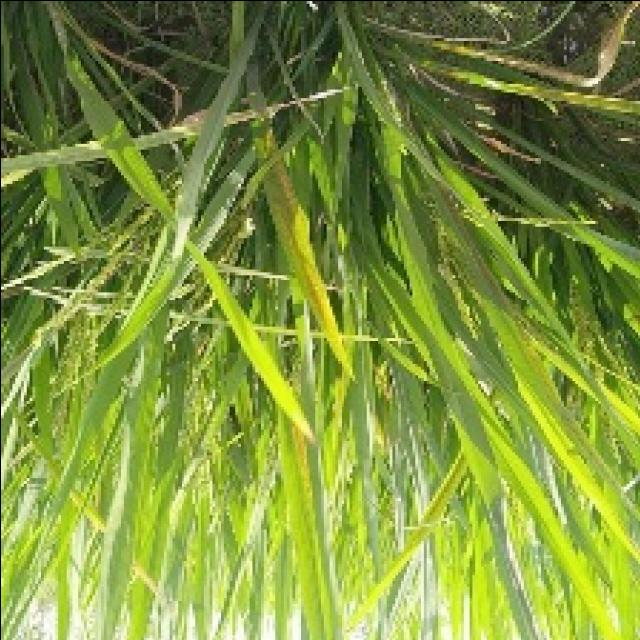Unhealthy: (432, 178, 603, 471), (276, 199, 337, 339), (266, 88, 341, 117), (292, 422, 311, 489), (273, 157, 294, 213), (258, 131, 277, 155), (224, 109, 251, 125)
